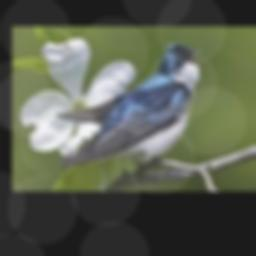Swallow: (57, 43, 207, 172)
